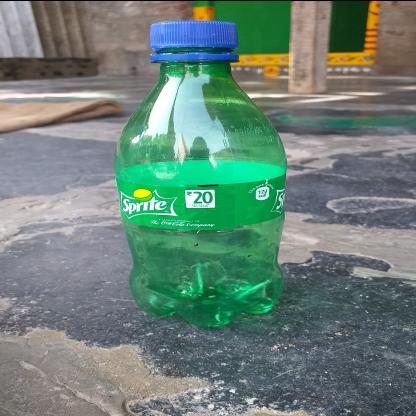bottle: (1, 64, 385, 162)
